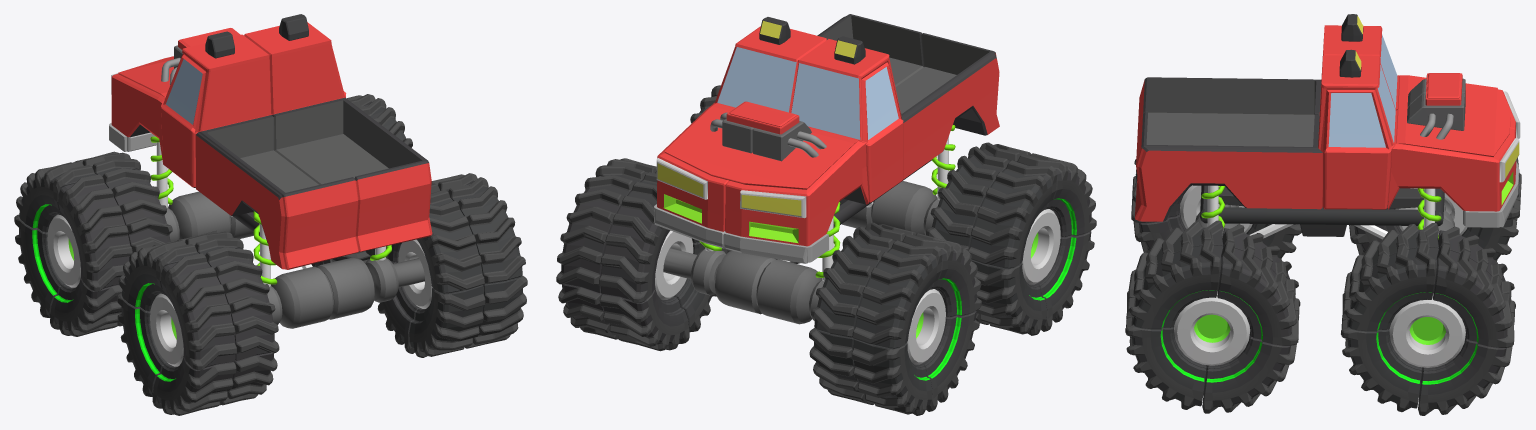
The model's file is Level_P_21.fbx.
3 views of the same model, side by side, from view 1: azimuth 30°, elevation 25°; view 2: azimuth 150°, elevation 25°; view 3: azimuth 270°, elevation 25° (orthographic). The views are drawn at different scales.
Parts seen in each view (by area): view 1: Cube_05.083, Cube_05.002, Cube_05.081, Cube_05.023, Cube_05.009, Cube_05.082, Cube_05.020, Cube_05.031, Cube_05.032, Cube_05.029, Cube_05.024, Cube_05.012 (+27 smaller); view 2: Cube_05.083, Cube_05.081, Cube_05.078, Cube_05.076, Cube_05.010, Cube_05.022, Cube_05.041, Cube_05.082, Cube_05.054, Cube_05.011, Cube_05.007, Cube_05.021 (+33 smaller); view 3: Cube_05.083, Cube_05.002, Cube_05.082, Cube_05.077, Cube_05.032, Cube_05.045, Cube_05.033, Cube_05.054, Cube_05.078, Cube_05.034, Cube_05.084, Cube_05.035 (+26 smaller).
Part boxes in pixels (x1=…): Cube_05.083: x1=195, y1=115, x2=359, y2=269; Cube_05.002: x1=272, y1=97, x2=432, y2=251; Cube_05.081: x1=161, y1=34, x2=271, y2=132; Cube_05.023: x1=161, y1=253, x2=236, y2=370; Cube_05.009: x1=58, y1=174, x2=132, y2=291; Cube_05.082: x1=244, y1=22, x2=346, y2=114; Cube_05.020: x1=205, y1=247, x2=279, y2=360; Cube_05.031: x1=417, y1=189, x2=484, y2=293; Cube_05.032: x1=446, y1=177, x2=525, y2=283; Cube_05.029: x1=409, y1=285, x2=485, y2=357; Cube_05.024: x1=152, y1=356, x2=236, y2=415; Cube_05.012: x1=102, y1=168, x2=172, y2=252; Cube_05.083: x1=895, y1=33, x2=999, y2=178; Cube_05.081: x1=791, y1=39, x2=903, y2=144; Cube_05.078: x1=664, y1=103, x2=858, y2=189; Cube_05.076: x1=725, y1=141, x2=868, y2=246; Cube_05.010: x1=852, y1=240, x2=942, y2=348; Cube_05.022: x1=968, y1=160, x2=1057, y2=268; Cube_05.041: x1=599, y1=181, x2=670, y2=303; Cube_05.082: x1=713, y1=26, x2=826, y2=112; Cube_05.054: x1=556, y1=175, x2=634, y2=293; Cube_05.011: x1=811, y1=226, x2=895, y2=337; Cube_05.007: x1=851, y1=339, x2=932, y2=415; Cube_05.021: x1=926, y1=146, x2=1010, y2=250; Cube_05.083: x1=1137, y1=77, x2=1321, y2=182; Cube_05.002: x1=1135, y1=112, x2=1322, y2=221; Cube_05.082: x1=1318, y1=55, x2=1397, y2=152; Cube_05.077: x1=1388, y1=128, x2=1515, y2=211; Cube_05.032: x1=1127, y1=240, x2=1223, y2=329; Cube_05.045: x1=1342, y1=242, x2=1438, y2=331; Cube_05.033: x1=1217, y1=241, x2=1298, y2=345; Cube_05.054: x1=1433, y1=244, x2=1514, y2=347; Cube_05.078: x1=1396, y1=75, x2=1510, y2=156; Cube_05.034: x1=1202, y1=331, x2=1296, y2=413; Cube_05.084: x1=1418, y1=333, x2=1512, y2=415; Cube_05.035: x1=1125, y1=317, x2=1206, y2=409.
Bounding box in the file's own units: 12.35 × 10.38 × 12.45.
